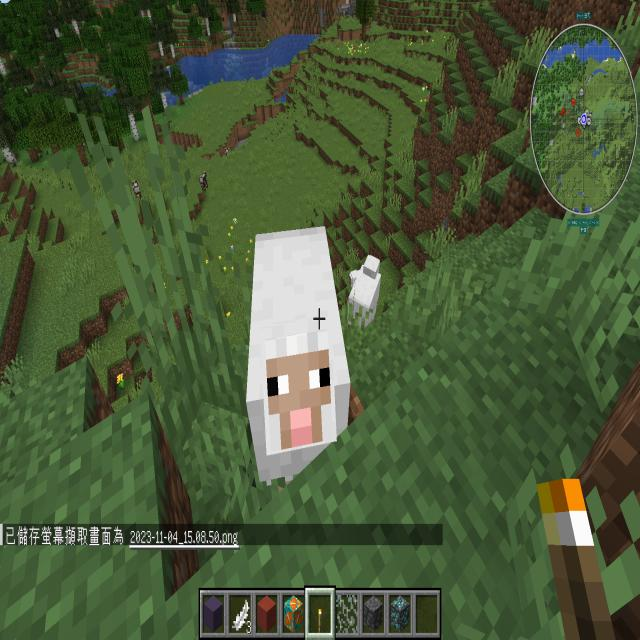cow: (196, 166, 212, 199), (126, 173, 142, 205), (222, 144, 235, 169)
